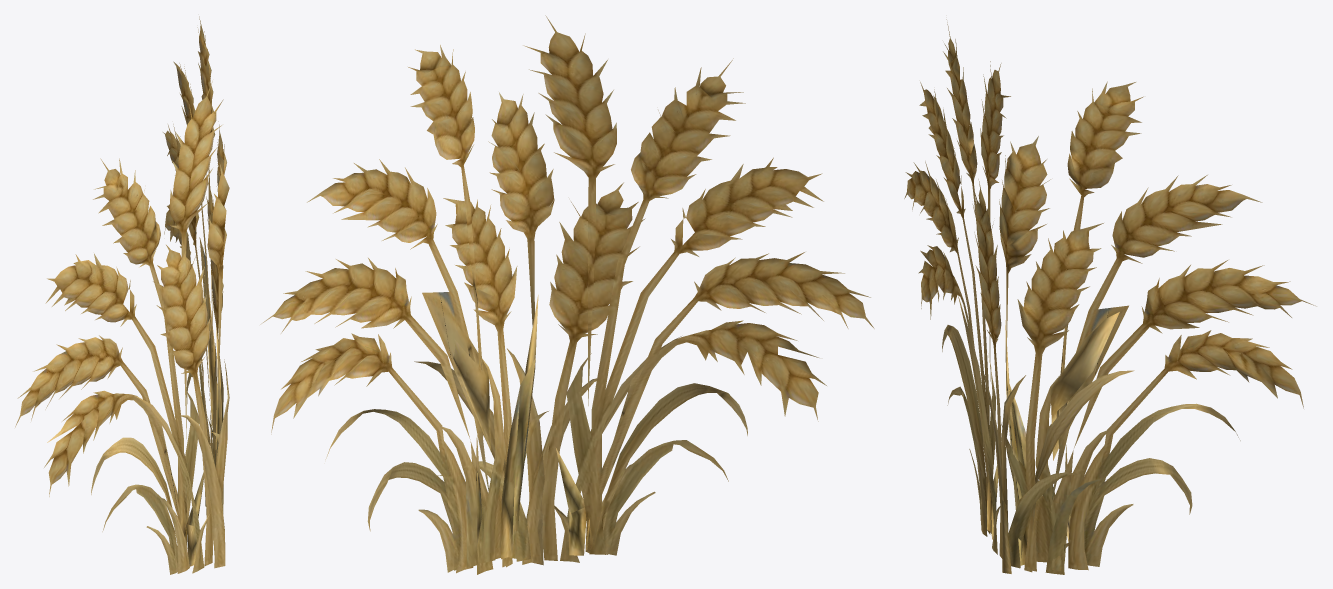
Rendered from crop_wheat_3.glb.
3 views of the same model, side by side, from view 1: azimuth 30°, elevation 25°; view 2: azimuth 150°, elevation 25°; view 3: azimuth 270°, elevation 25° (orthographic). The views are drawn at different scales.
Parts seen in each view (by area): view 1: crop_wheat_3; view 2: crop_wheat_3; view 3: crop_wheat_3.
Part boxes in pixels (bbox=[...]): crop_wheat_3: bbox=[15, 16, 229, 574]; crop_wheat_3: bbox=[260, 15, 874, 574]; crop_wheat_3: bbox=[904, 19, 1316, 574].
Size of the model in its own units: 0.8838 by 1.2 by 0.8838.
1 material, 1 textured.
